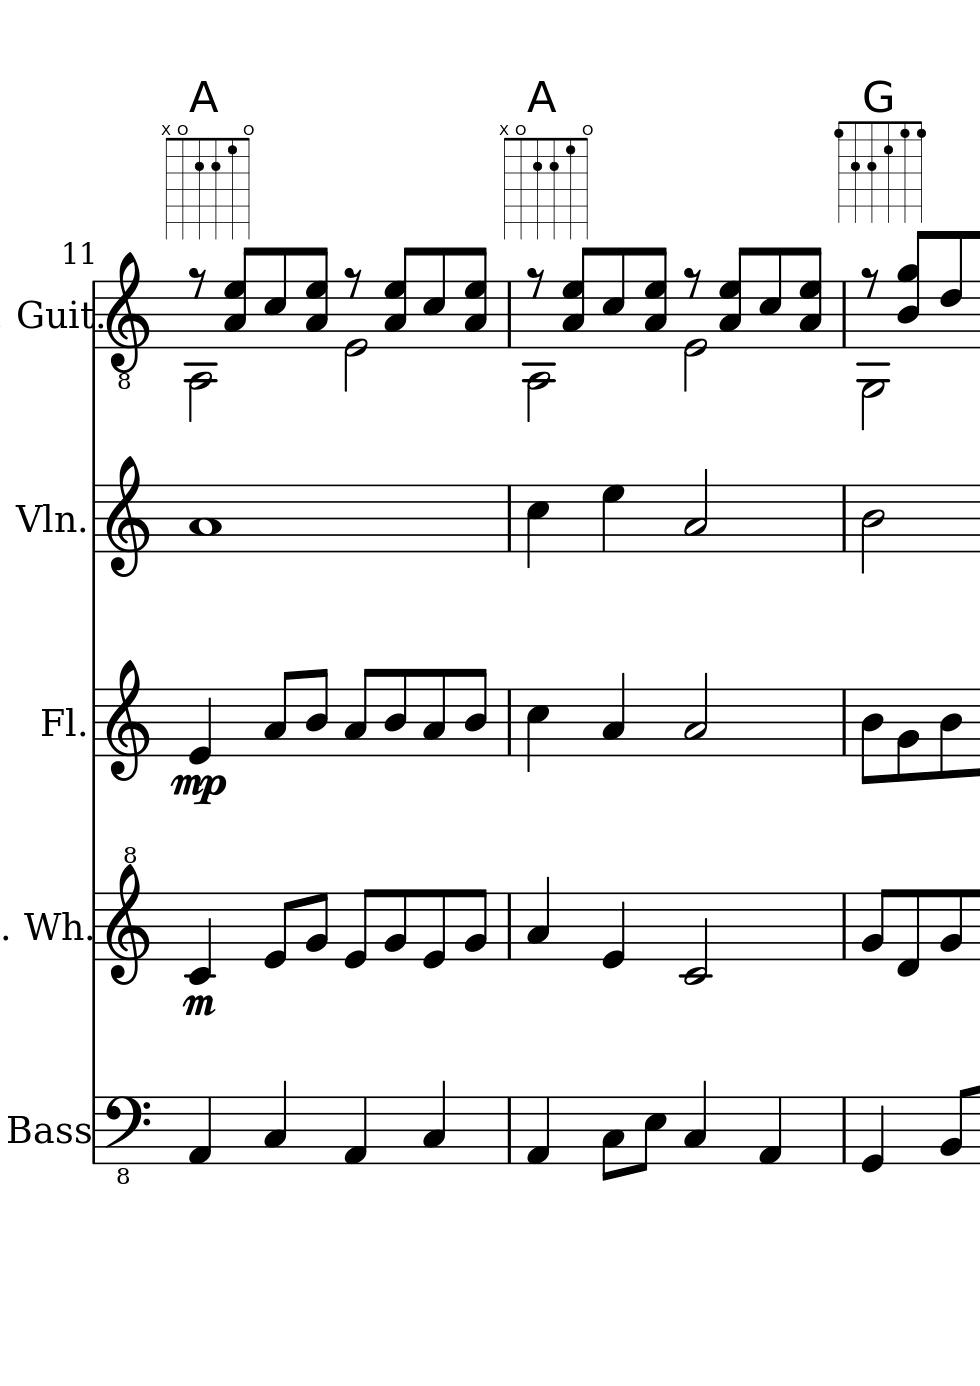1: (77, 236, 94, 267), (63, 238, 78, 268)
1_3: (188, 483, 222, 556)
2_-2: (680, 889, 711, 988)
2_-4: (183, 281, 213, 423), (524, 279, 552, 423)
2_-5: (860, 281, 886, 431)
2_0: (342, 279, 369, 393), (682, 280, 708, 394)
2_2: (681, 673, 708, 757)
2_3: (681, 468, 708, 552)
2_4: (859, 483, 885, 575)
4_-2: (188, 890, 215, 989)
4_0: (859, 1093, 887, 1174), (188, 686, 214, 766), (601, 890, 627, 969)
4_1: (342, 1095, 368, 1166), (525, 1095, 552, 1166), (187, 1095, 213, 1165), (757, 1095, 783, 1166)
4_3: (263, 1078, 288, 1165), (683, 1078, 708, 1165), (600, 672, 626, 757), (525, 876, 550, 961), (422, 1080, 447, 1165)
4_5: (524, 483, 550, 569), (524, 687, 550, 773)
4_7: (600, 483, 625, 552)
8_-1: (893, 887, 921, 981)
8_0: (342, 888, 374, 972), (262, 891, 294, 971), (421, 887, 448, 972)
8_2: (938, 1085, 970, 1166), (894, 686, 920, 784), (859, 887, 891, 962), (382, 887, 408, 962), (939, 887, 964, 962), (304, 891, 329, 963), (463, 887, 487, 962)
8_3: (343, 667, 375, 759), (263, 669, 295, 758), (421, 667, 447, 759), (599, 1095, 624, 1183)
8_3_7: (223, 245, 255, 350), (382, 245, 414, 350), (559, 245, 591, 350), (716, 245, 748, 350), (642, 245, 667, 350), (797, 245, 822, 350), (303, 244, 328, 349), (463, 245, 488, 350)
8_4: (856, 687, 883, 788), (382, 666, 408, 759), (938, 687, 964, 780), (463, 666, 488, 758), (304, 667, 328, 759)
8_4_9: (897, 229, 928, 349)
8_5: (261, 243, 288, 351), (600, 243, 628, 351), (420, 244, 448, 351), (756, 244, 784, 351), (638, 1095, 666, 1175)
8_6: (937, 229, 965, 353)
Bass: (3, 1110, 93, 1153)
Fl: (36, 701, 78, 745)
Fretboard: (495, 118, 595, 243), (158, 119, 259, 242), (832, 116, 930, 226)
Gclef: (103, 657, 159, 786), (103, 454, 151, 578)
Guit: (16, 292, 93, 339)
High_Gclef: (104, 845, 151, 988)
Lower_Fclef: (103, 1094, 155, 1188)
Lower_Gclef: (103, 250, 151, 391)
Rests8: (342, 263, 362, 299), (186, 264, 207, 298), (859, 264, 879, 299), (682, 263, 701, 299), (525, 264, 545, 298)
Single_barline: (835, 1096, 853, 1164), (835, 689, 852, 757), (501, 485, 518, 551), (501, 1096, 518, 1163), (501, 689, 518, 755), (836, 485, 852, 552), (502, 281, 518, 348), (837, 281, 853, 348), (501, 893, 517, 959), (836, 893, 852, 959), (87, 485, 102, 552), (87, 689, 102, 757), (87, 893, 102, 961), (88, 280, 101, 351), (88, 1096, 101, 1163)
Vln: (14, 497, 77, 542)
Wh: (22, 906, 81, 942)
m: (179, 989, 216, 1019)
mp: (168, 767, 229, 809)
